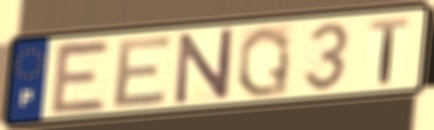3: (299, 19, 354, 93)
E: (47, 38, 114, 117), (109, 32, 175, 111)
N: (174, 26, 235, 108)
Q: (235, 23, 294, 100)
T: (367, 16, 410, 87)
